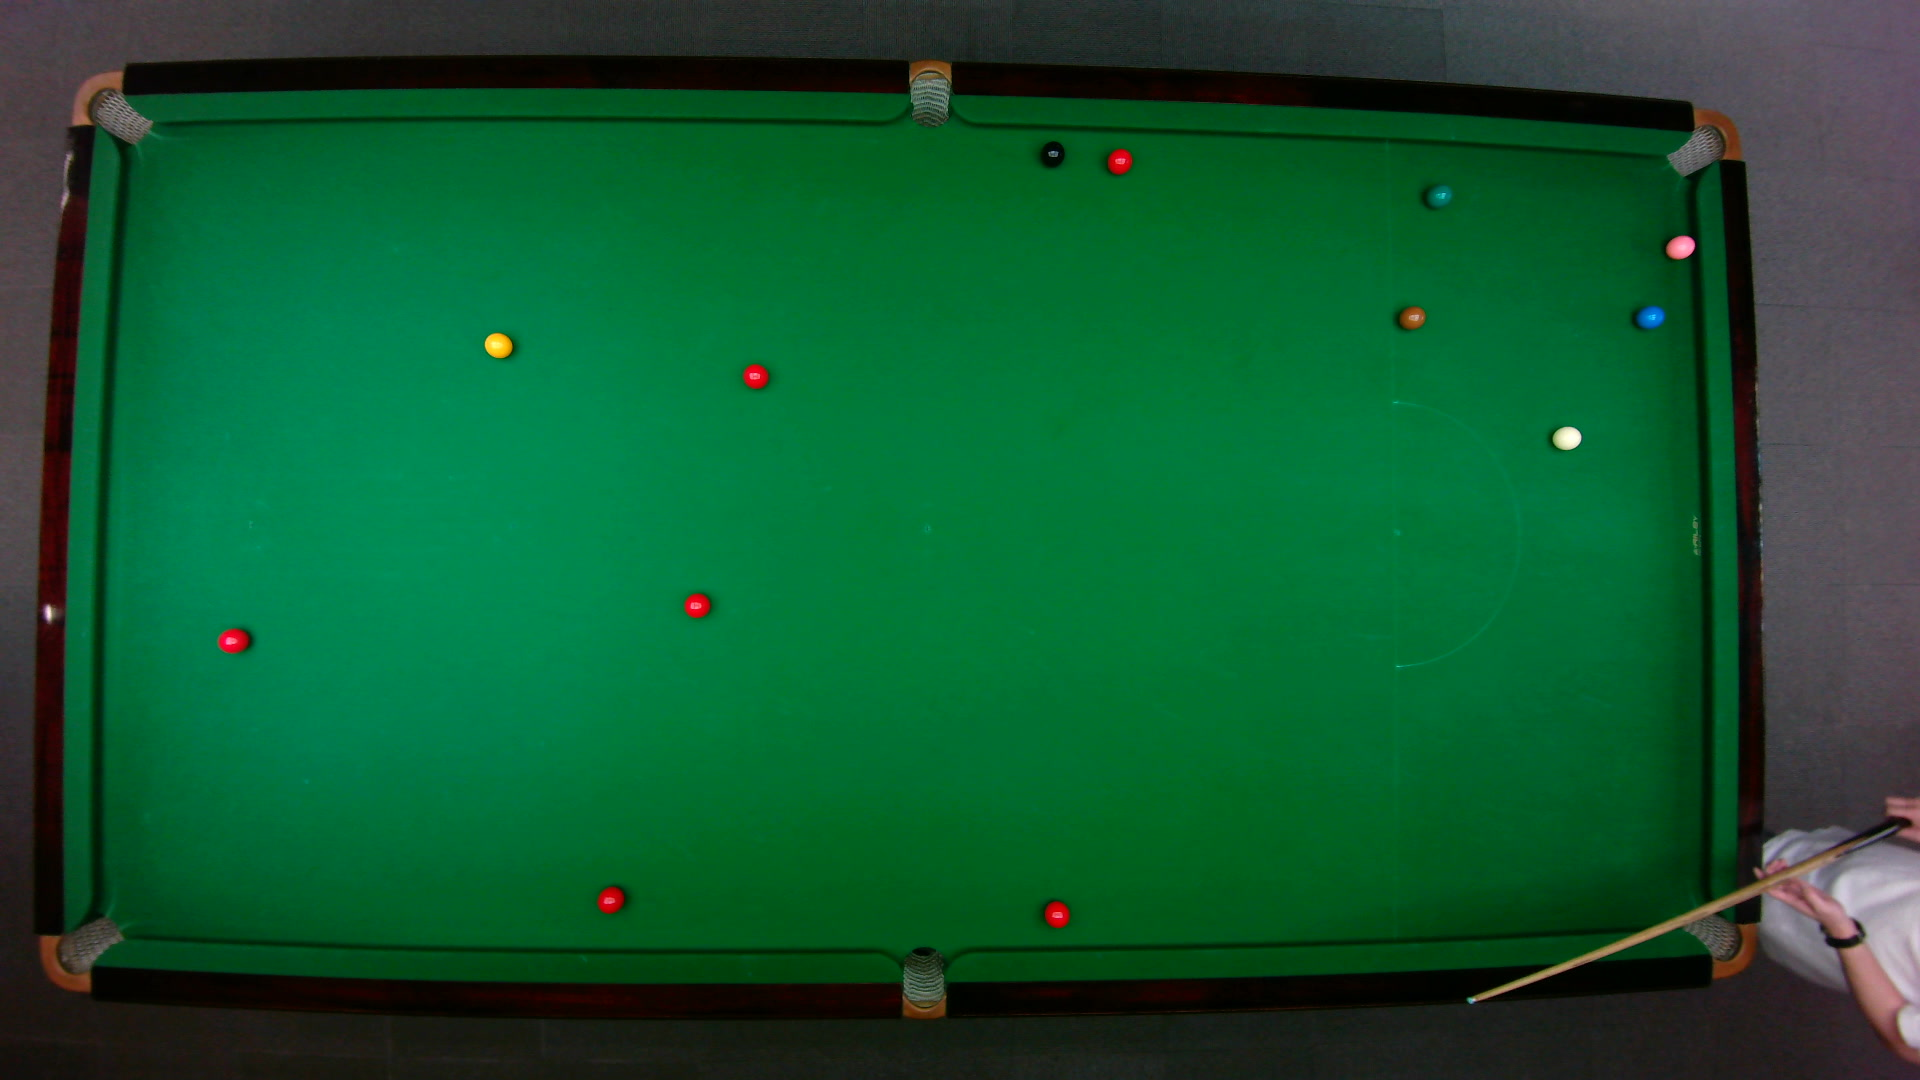bag: (37, 913, 125, 992), (69, 69, 153, 145), (1663, 107, 1741, 177), (1684, 909, 1756, 977), (901, 944, 944, 1021), (909, 57, 949, 128)
black: (1040, 140, 1063, 166)
blue: (1634, 303, 1665, 330)
brown: (1396, 305, 1427, 330)
cue: (1465, 814, 1916, 1007)
green: (1422, 182, 1453, 208)
pink: (1663, 232, 1697, 260)
red: (595, 884, 625, 914), (216, 626, 251, 653), (1105, 146, 1133, 175), (740, 361, 769, 389), (1043, 899, 1071, 928), (682, 591, 709, 618)
white: (1549, 425, 1582, 450)
yellow: (481, 330, 513, 359)
zone: (1391, 400, 1520, 669)
